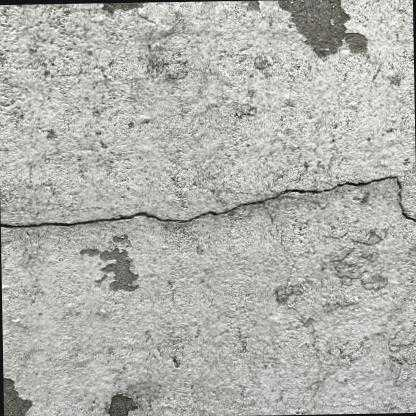crack: (0, 175, 416, 226)
